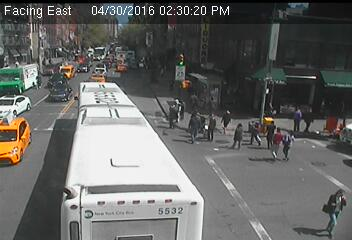neg: (52, 60, 85, 105), (83, 132, 111, 170), (218, 50, 244, 84), (228, 181, 254, 215), (307, 67, 328, 96), (160, 172, 181, 199), (144, 58, 163, 83), (263, 68, 281, 91)
pos: (319, 185, 350, 227), (202, 112, 224, 141), (182, 109, 203, 137), (271, 127, 290, 153), (286, 102, 305, 128), (305, 106, 324, 131), (280, 132, 299, 156), (230, 122, 248, 146), (219, 107, 237, 131), (264, 118, 281, 141), (161, 101, 178, 124), (248, 121, 264, 142)
